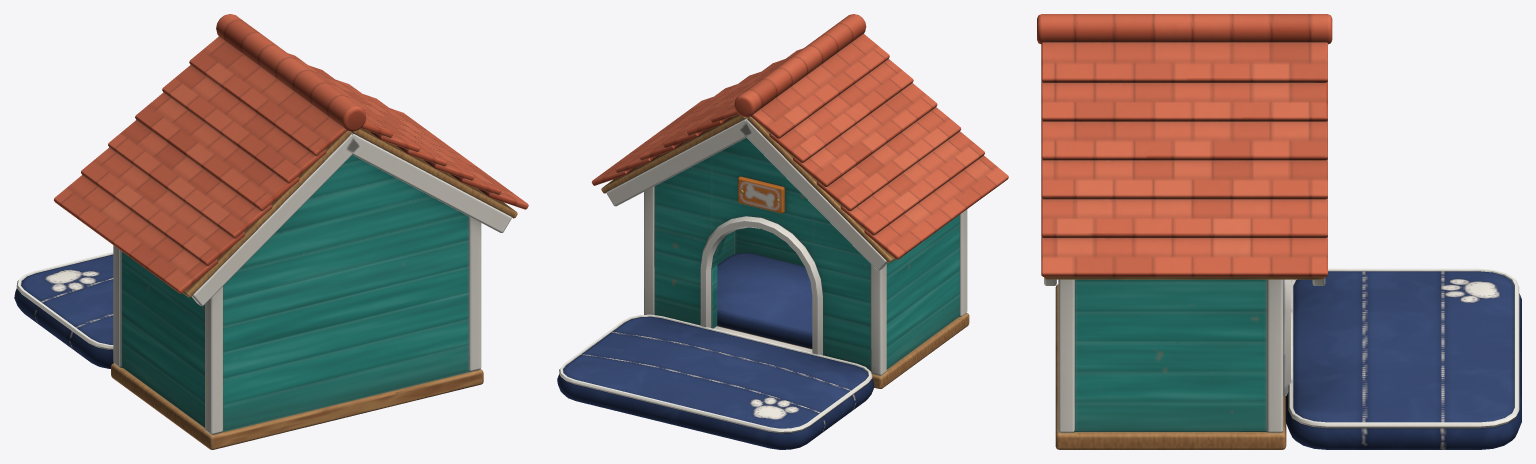
Rendered from pet-bed-house.fbx.
3 views of the same model, side by side, from view 1: azimuth 30°, elevation 25°; view 2: azimuth 150°, elevation 25°; view 3: azimuth 270°, elevation 25° (orthographic). The views are drawn at different scales.
Visible parts, largest first — view 1: Body; view 2: Body; view 3: Body.
Part boxes in pixels (x1,y1,x2,y2): Body: (14, 14, 528, 449); Body: (557, 14, 1008, 449); Body: (1037, 14, 1521, 449).
Bounding box in the file's own units: 0.9983 × 0.8607 × 1.05.
